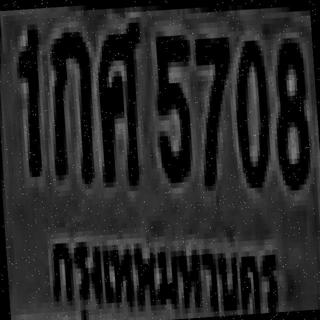A01: (45, 26, 95, 180)
A38: (92, 20, 147, 180)
N00: (230, 34, 271, 184)
N01: (13, 24, 44, 172)
N05: (150, 30, 194, 178)
N07: (192, 32, 236, 181)
N08: (268, 37, 309, 186)
P04: (40, 211, 291, 320)
